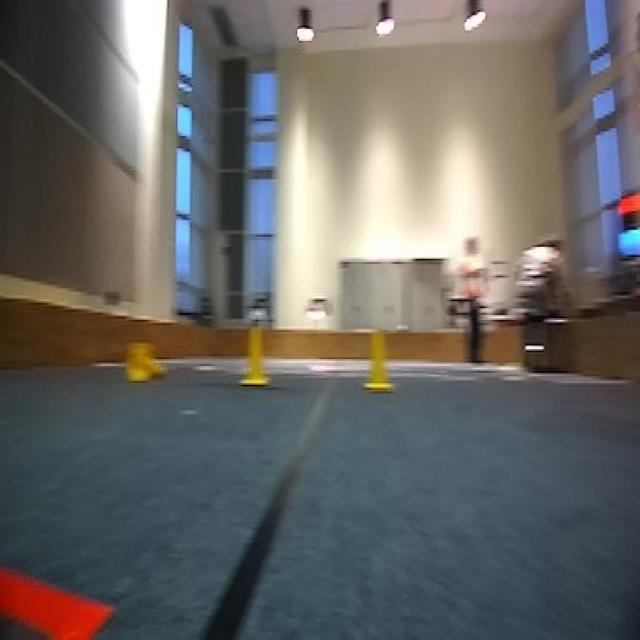frc_cone: (126, 339, 168, 386), (241, 322, 270, 388), (364, 330, 392, 393)
